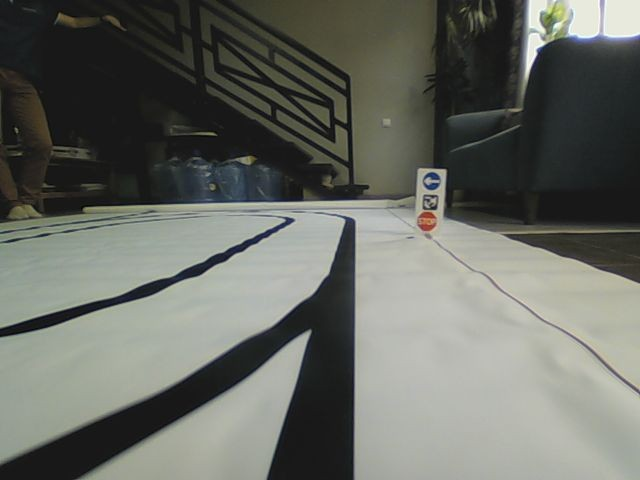Stop: (417, 211, 438, 230)
